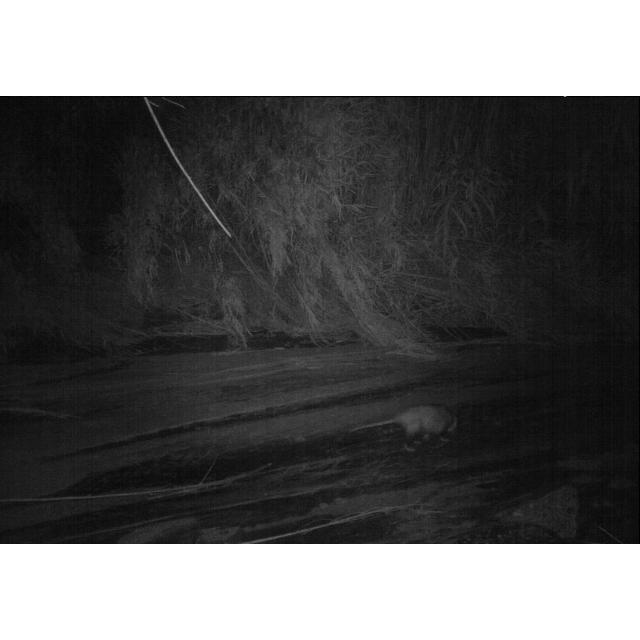animals: (349, 402, 461, 452)
